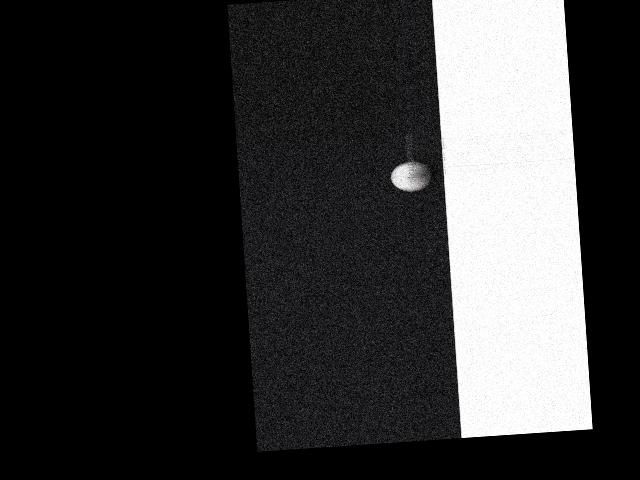egg: (389, 160, 432, 193)
